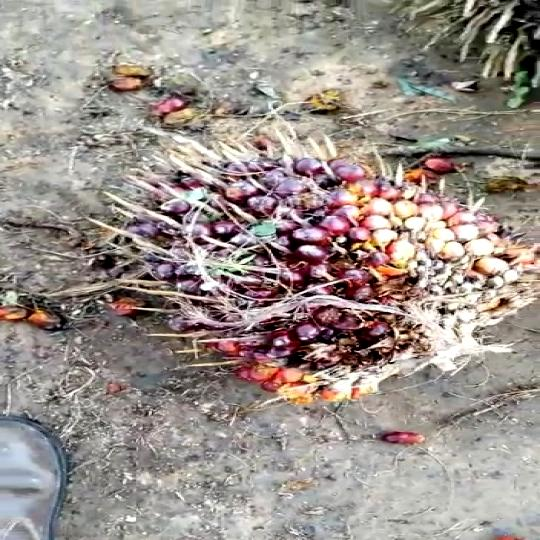masak: (118, 158, 509, 400)
